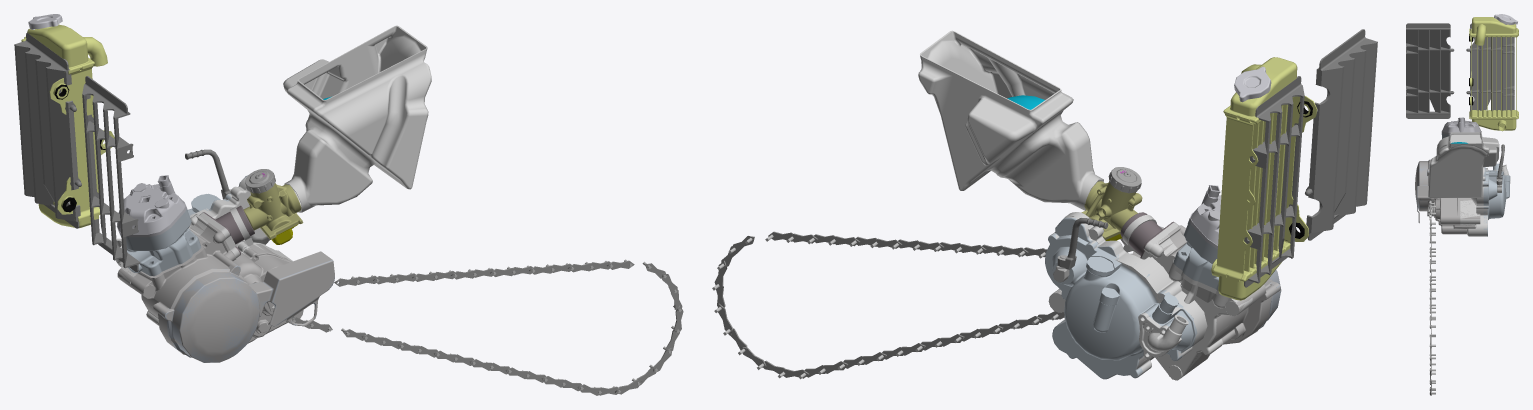
Rendered from Engine Origin.fbx.
3 renders of one model, left to right at view 1: azimuth 30°, elevation 25°; view 2: azimuth 150°, elevation 25°; view 3: azimuth 270°, elevation 25°, orthographic. The views are drawn at different scales.
Parts seen in each view (by area): view 1: E - Cooling System, E - Air Filter, E - Motor Gear Box, Chain_Part_2_1070, E -Cylinder, E - Carborator, E - Crank Case, E - Motor Box, E - Intake Manifold, Chain_Part_1_1000; view 2: E - Cooling System, E - Air Filter, E - Motor Gear Box, E - Engine House, Chain_Part_2_1070, E - Motor Box, E -Cylinder, E - Carborator, E - Water Pump, E - Intake Manifold, Chain_Part_1_1000, E - Kick Starter; view 3: E - Cooling System, E - Air Filter, E - Motor Gear Box, E - Motor Box, E - Engine House, Chain_Part_1_1000, E -Cylinder, Chain_Part_2_1070, E - Kick Starter, E - Crank Case.
Part boxes in pixels (x1=…): E - Cooling System: x1=14, y1=14, x2=140, y2=271; E - Air Filter: x1=283, y1=25, x2=431, y2=212; E - Motor Gear Box: x1=117, y1=176, x2=334, y2=362; Chain_Part_2_1070: x1=286, y1=260, x2=683, y2=395; E -Cylinder: x1=116, y1=175, x2=201, y2=276; E - Carborator: x1=243, y1=169, x2=303, y2=244; E - Crank Case: x1=161, y1=260, x2=334, y2=362; E - Motor Box: x1=118, y1=178, x2=292, y2=325; E - Intake Manifold: x1=199, y1=205, x2=254, y2=258; Chain_Part_1_1000: x1=273, y1=259, x2=681, y2=394; E - Cooling System: x1=1211, y1=29, x2=1377, y2=300; E - Air Filter: x1=918, y1=30, x2=1103, y2=210; E - Motor Gear Box: x1=1045, y1=212, x2=1281, y2=380; E - Engine House: x1=1045, y1=217, x2=1197, y2=379; Chain_Part_2_1070: x1=714, y1=231, x2=1064, y2=378; E - Motor Box: x1=1049, y1=212, x2=1252, y2=380; E -Cylinder: x1=1173, y1=185, x2=1221, y2=290; E - Carborator: x1=1081, y1=167, x2=1142, y2=240; E - Water Pump: x1=1138, y1=312, x2=1188, y2=358; E - Intake Manifold: x1=1120, y1=212, x2=1178, y2=259; Chain_Part_1_1000: x1=712, y1=234, x2=1058, y2=379; E - Kick Starter: x1=1053, y1=218, x2=1108, y2=282; E - Cooling System: x1=1406, y1=14, x2=1518, y2=131; E - Air Filter: x1=1428, y1=132, x2=1499, y2=198; E - Motor Gear Box: x1=1415, y1=159, x2=1509, y2=236; E - Motor Box: x1=1460, y1=167, x2=1483, y2=236; E - Engine House: x1=1483, y1=163, x2=1510, y2=236; Chain_Part_1_1000: x1=1429, y1=203, x2=1435, y2=394; E -Cylinder: x1=1441, y1=117, x2=1481, y2=138; Chain_Part_2_1070: x1=1429, y1=204, x2=1435, y2=395; E - Kick Starter: x1=1496, y1=144, x2=1504, y2=192; E - Crank Case: x1=1415, y1=162, x2=1429, y2=222.
Size of the model in its own units: 4.63 by 3.37 by 1.41.
